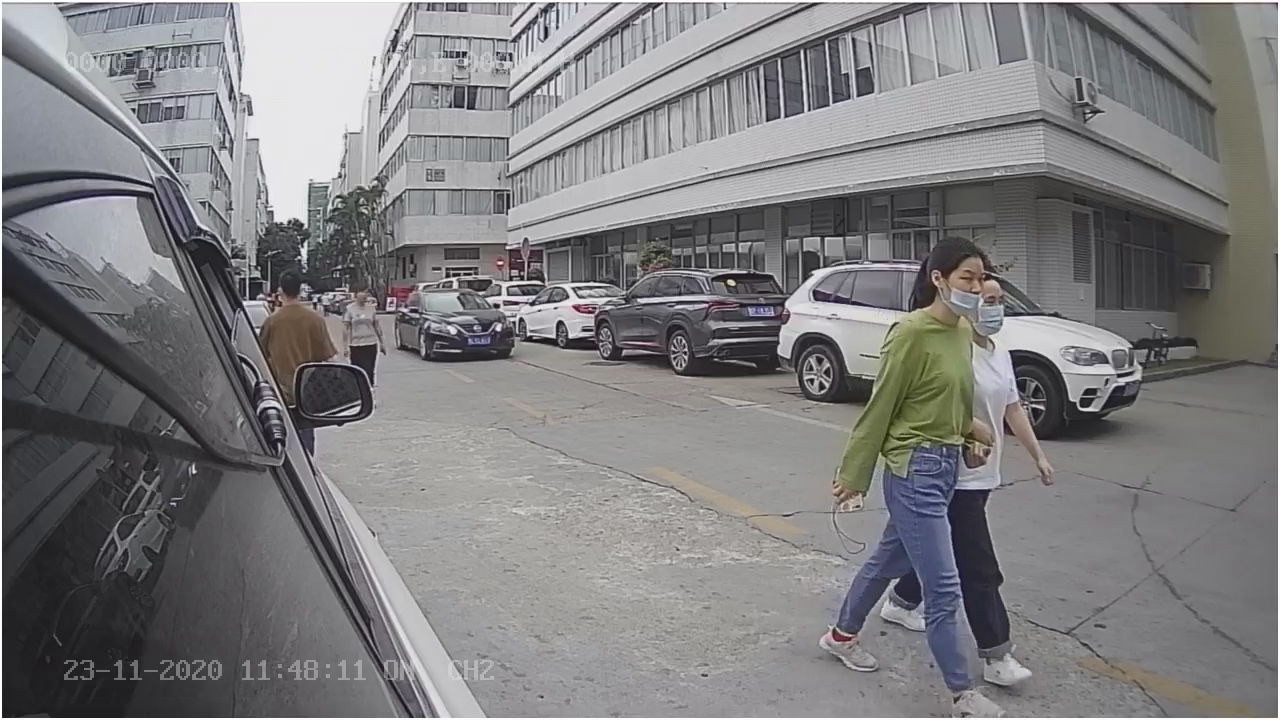person: (814, 223, 1008, 710)
